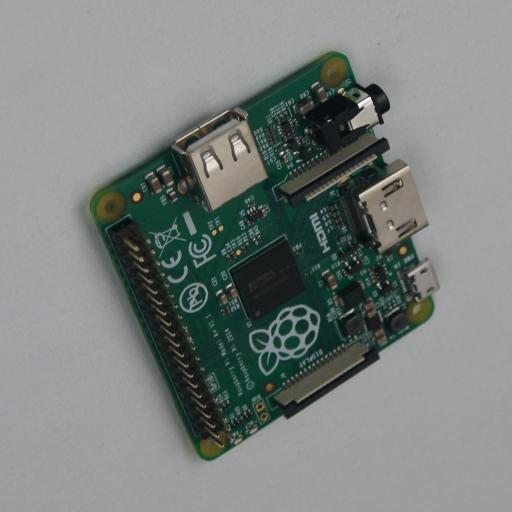Raspberry Pi A-: (90, 51, 434, 461)
